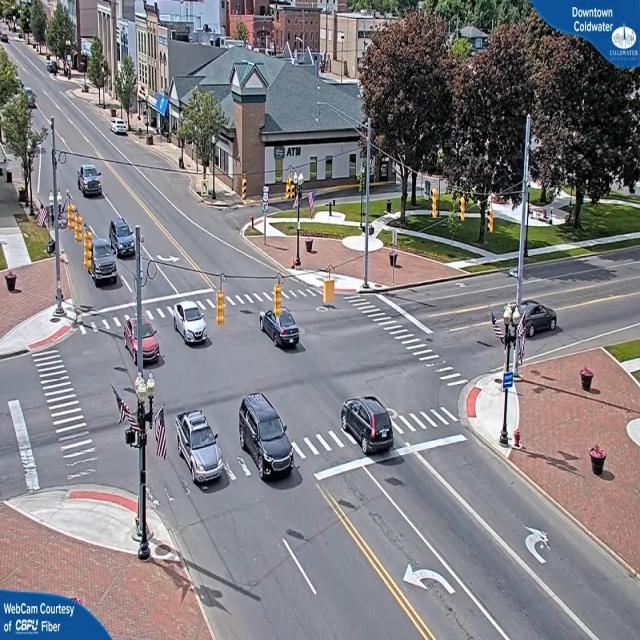car: (238, 394, 296, 483), (178, 411, 228, 490), (341, 397, 396, 458), (173, 302, 212, 346), (89, 239, 121, 289), (260, 312, 301, 351), (517, 300, 559, 338), (112, 220, 137, 258), (78, 163, 103, 197), (111, 119, 129, 136)
